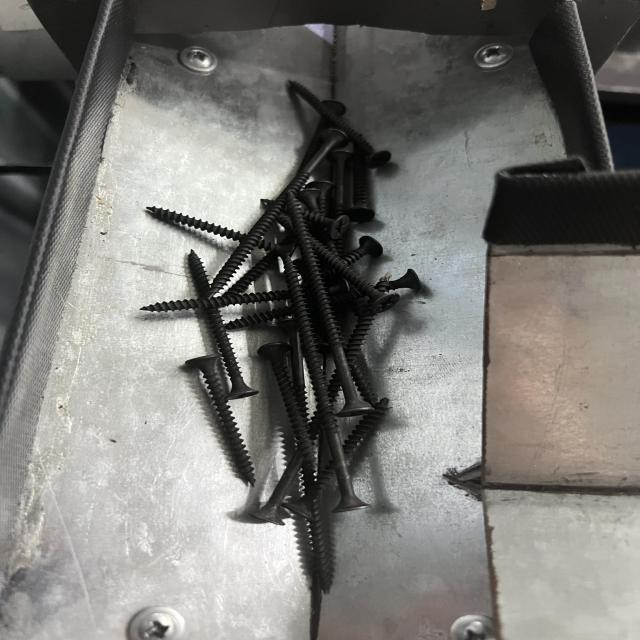screw: (282, 190, 378, 430), (186, 250, 256, 408), (185, 354, 258, 489)
